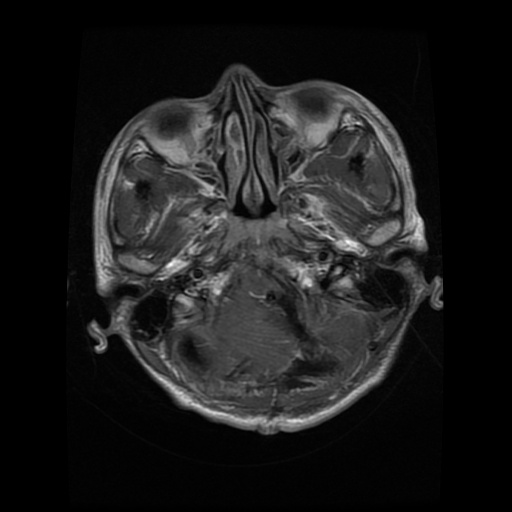glioma: (265, 287, 310, 342)
